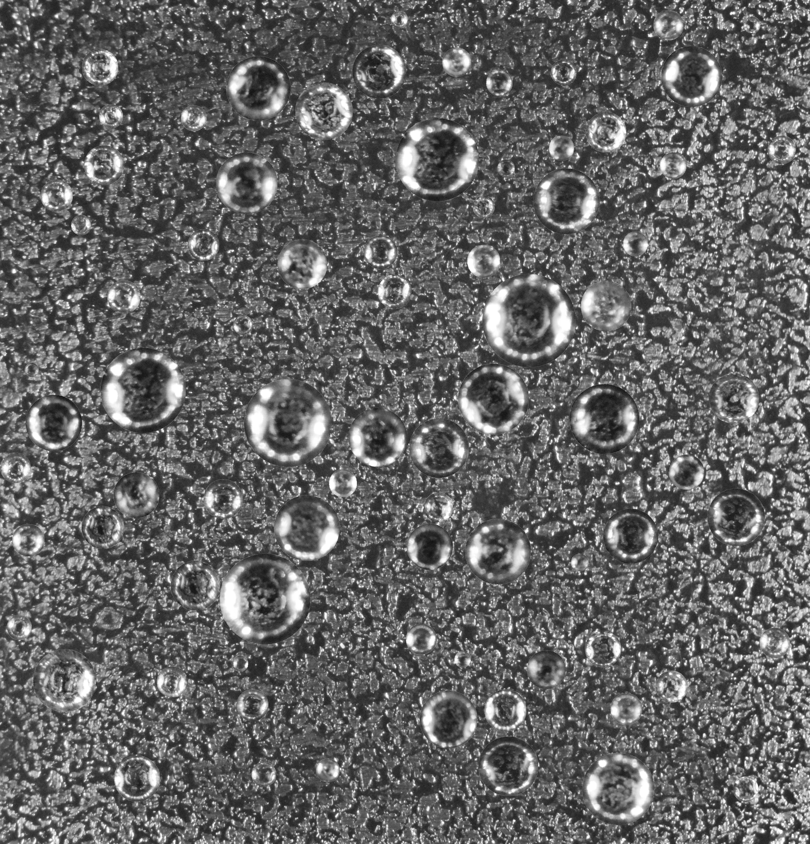Bubble: (482, 274, 575, 367), (219, 553, 310, 644), (244, 379, 331, 466), (100, 347, 185, 432), (395, 118, 478, 201), (582, 753, 654, 825), (458, 363, 528, 434), (569, 384, 639, 453), (533, 168, 599, 234), (465, 518, 530, 584), (274, 495, 339, 560), (226, 56, 290, 120), (33, 649, 95, 712), (216, 152, 277, 213), (661, 46, 722, 106), (478, 736, 538, 796), (409, 418, 468, 477), (348, 408, 407, 466), (419, 690, 477, 748), (295, 82, 352, 139), (707, 488, 764, 545), (25, 394, 81, 451), (603, 508, 658, 563), (352, 44, 406, 98), (581, 280, 631, 331), (709, 373, 759, 423), (170, 560, 220, 610), (277, 239, 327, 288), (113, 472, 159, 518), (406, 523, 452, 569), (114, 755, 159, 801), (81, 506, 124, 548), (484, 689, 526, 731), (586, 112, 626, 152), (84, 145, 123, 185), (203, 479, 242, 518), (527, 650, 565, 689), (81, 49, 118, 85), (585, 631, 621, 667), (669, 454, 704, 489), (377, 274, 411, 308), (363, 235, 397, 268), (467, 244, 500, 277), (107, 280, 140, 313), (12, 524, 44, 556), (655, 670, 687, 702), (236, 689, 268, 721), (40, 179, 72, 211), (610, 693, 642, 725), (187, 229, 219, 260), (759, 627, 790, 658), (156, 666, 187, 697), (423, 492, 453, 522), (653, 10, 683, 40), (406, 624, 436, 654), (0, 452, 30, 482), (442, 47, 471, 76), (767, 135, 796, 163), (329, 469, 356, 497), (660, 152, 686, 178), (486, 69, 512, 95), (551, 59, 576, 85), (733, 776, 758, 801), (181, 105, 206, 130), (549, 135, 574, 160), (623, 231, 647, 256), (6, 615, 31, 639), (251, 762, 276, 786), (316, 758, 339, 782), (99, 104, 122, 128), (472, 195, 494, 217), (71, 215, 91, 235), (233, 315, 252, 334), (571, 553, 588, 571), (497, 159, 514, 176), (743, 16, 760, 33), (390, 11, 407, 28), (232, 655, 248, 671), (454, 651, 470, 667), (24, 362, 38, 376)
